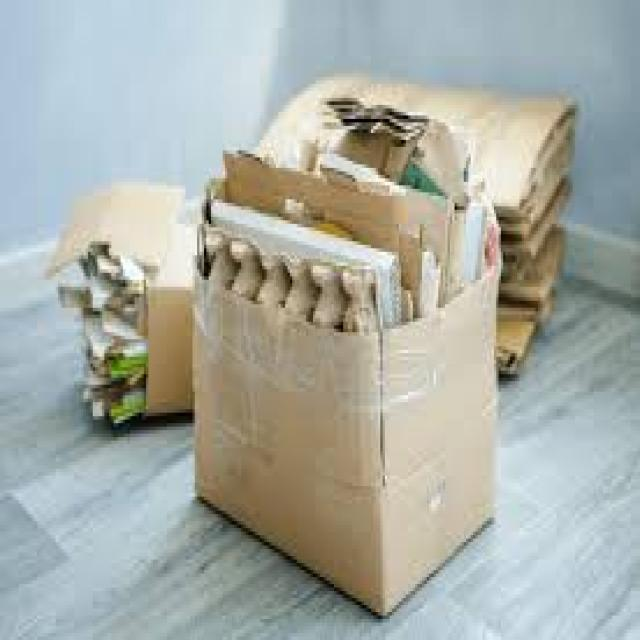cardboard: (176, 95, 561, 630)
